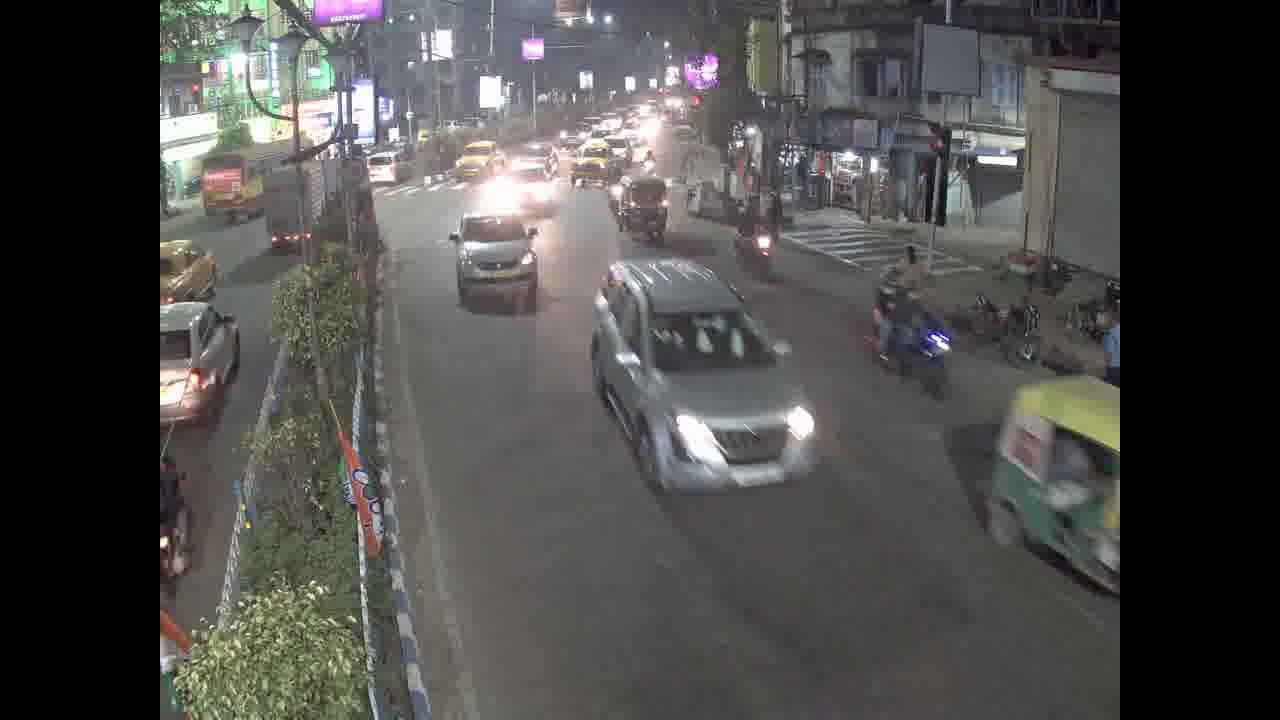auto-rickshaw: (1009, 374, 1132, 575), (622, 172, 674, 240)
bike: (863, 295, 979, 399), (963, 301, 1044, 356), (721, 225, 785, 265)
car: (590, 266, 799, 472), (161, 299, 237, 410), (450, 213, 543, 288), (164, 239, 219, 295), (448, 141, 505, 181)
person: (897, 281, 923, 328), (734, 192, 764, 232)
